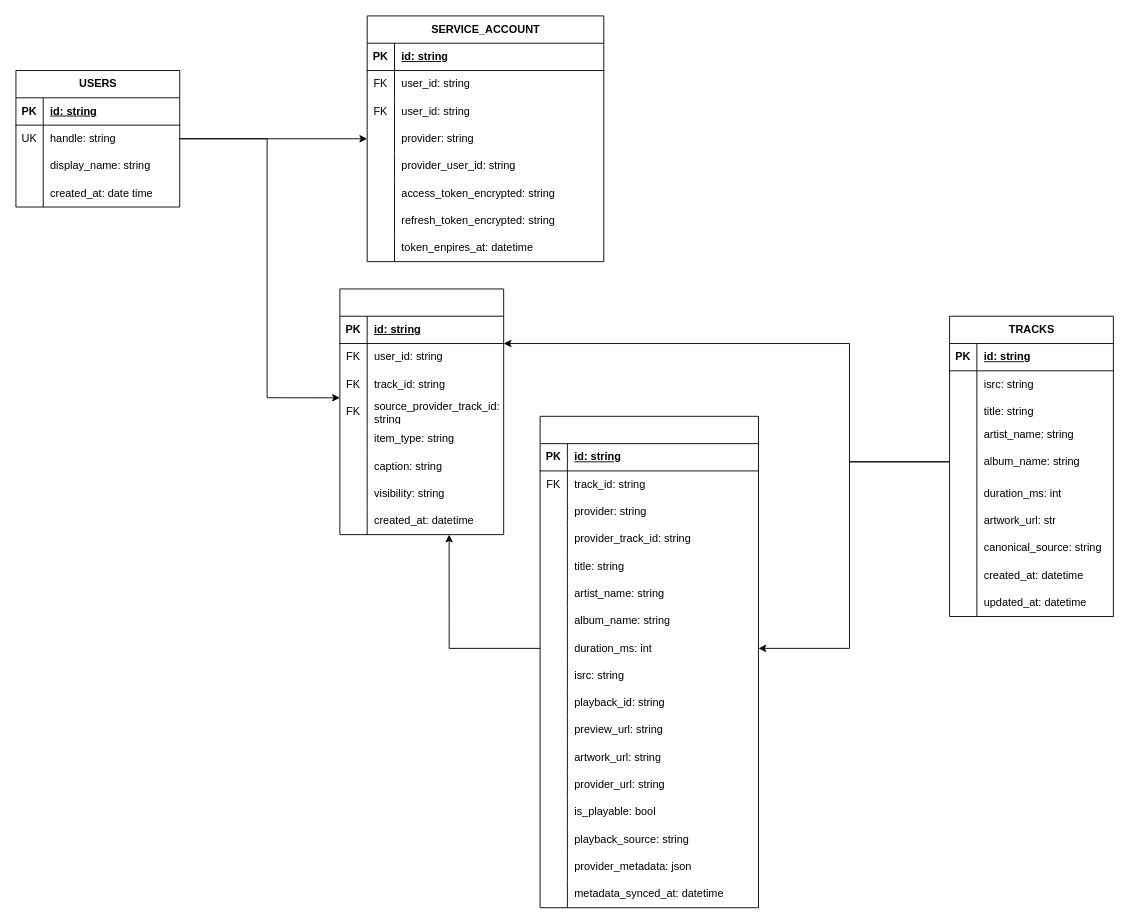
The diagram is 1129 pixels wide and 924 high, and some of its shapes have lost their labels. Each missing label, with the box of its shape:
POSTS: (339, 288, 504, 535)
PROVIDER_TRACKS: (539, 415, 758, 908)
